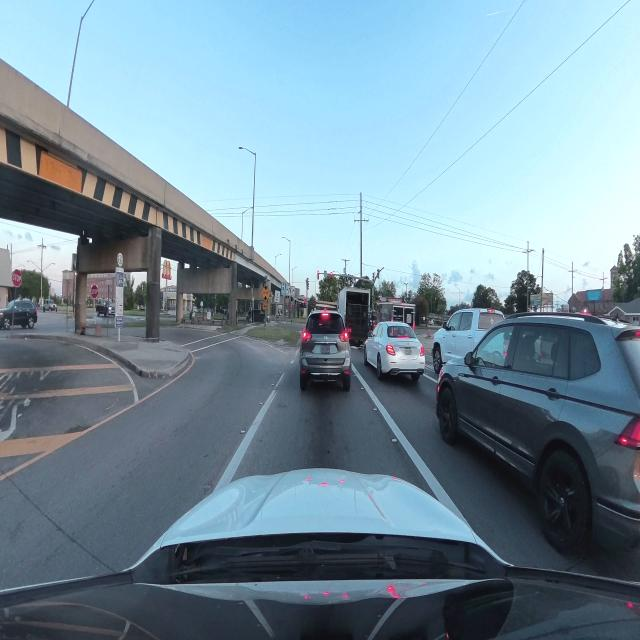car: (437, 313, 639, 551), (433, 309, 503, 374), (300, 310, 351, 391), (364, 322, 424, 380), (0, 300, 37, 329), (96, 300, 114, 317), (246, 310, 265, 322)
